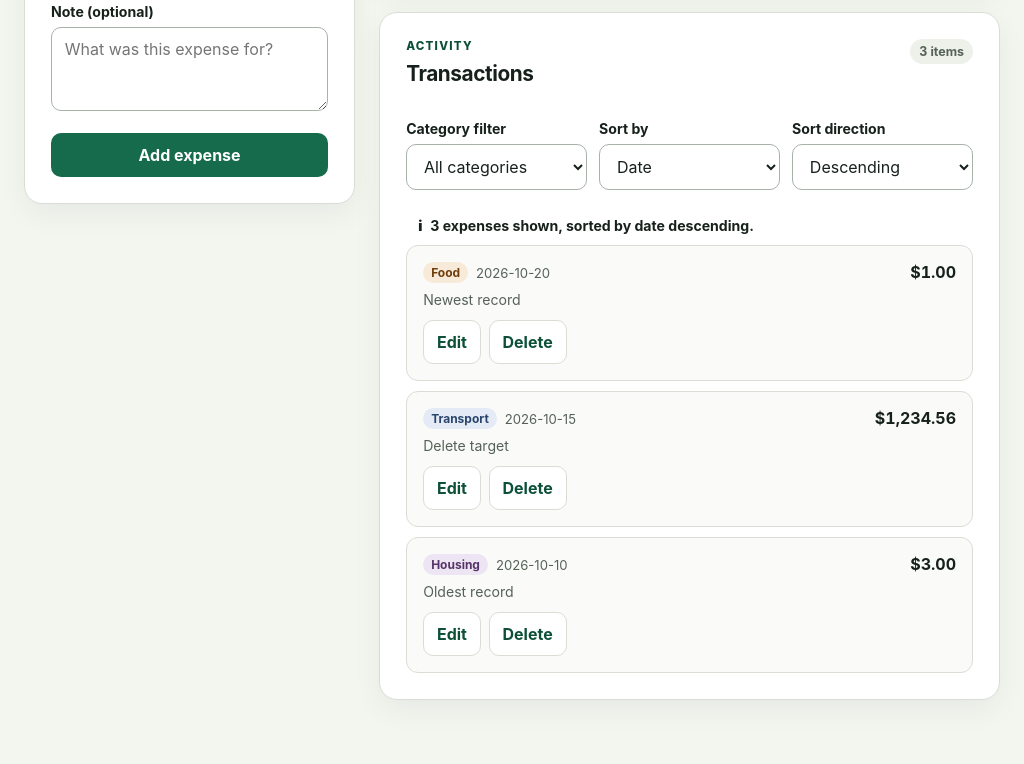
Test: delete confirmation › DELETE-002: Cancel makes no mutation or write and restores the requester
(page scrolled)
What coordinates should you click on to do the following:
click the button with aria-label "Delete expense"
I would click on:
 (528, 488)
Its box is [489,466,566,510].
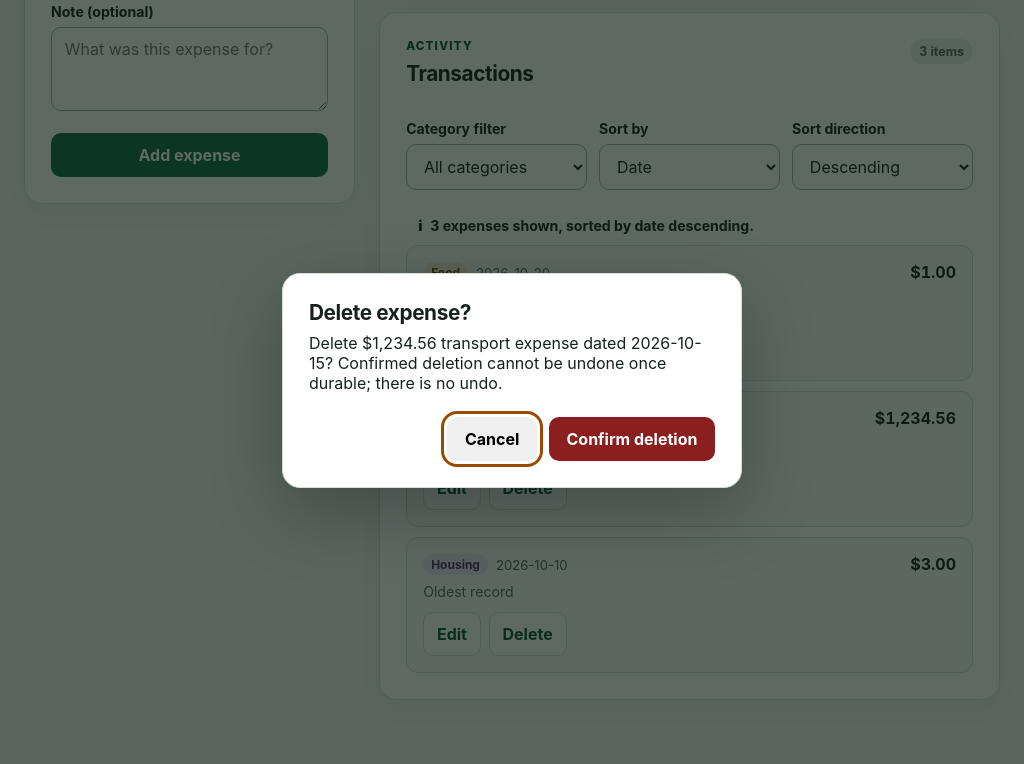
What coordinates should you click on to do the following:
click the button "Cancel"
I would click on:
 (492, 438)
Its box is [447,416,537,460].
(page scrolled)
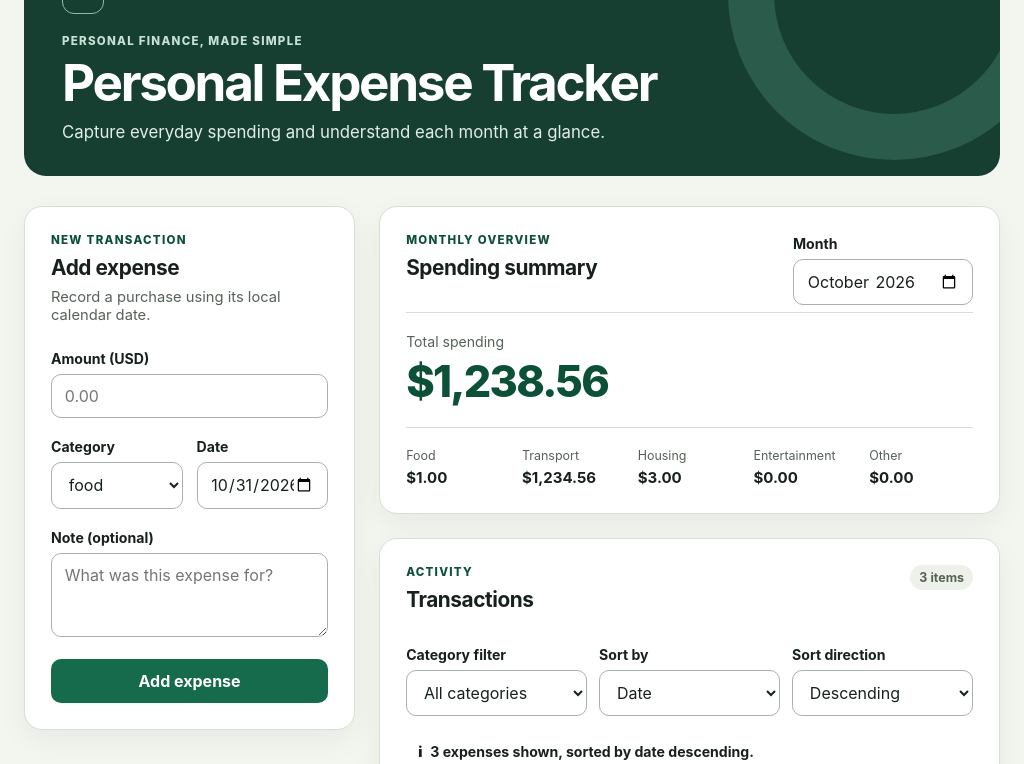
Expected: the text named "Monthly total" reads "$1,238.56", [406,355,608,407]
Expected: the dialog is gone
